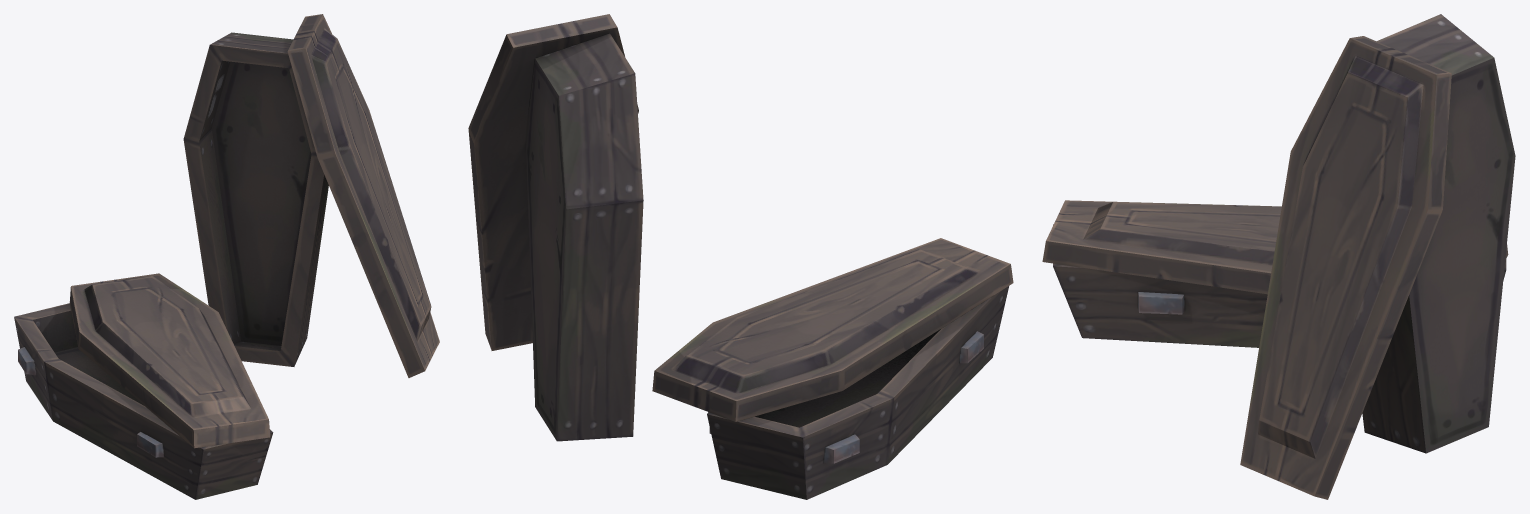
File: A Coffin.fbx
The picture shows the model from 3 angles, left to right: view 1: azimuth 30°, elevation 25°; view 2: azimuth 150°, elevation 25°; view 3: azimuth 270°, elevation 25°; orthographic projection. The views are drawn at different scales.
Parts seen in each view (by area): view 1: Object001; view 2: Object001; view 3: Object001.
Part boxes in pixels (left/top/right/bottom): Object001: left=14, top=14, right=439, bottom=499; Object001: left=468, top=14, right=1013, bottom=499; Object001: left=1042, top=14, right=1515, bottom=499.
Bounding box in the file's own units: 64.94 × 53.73 × 57.93.
1 material, 1 textured.
